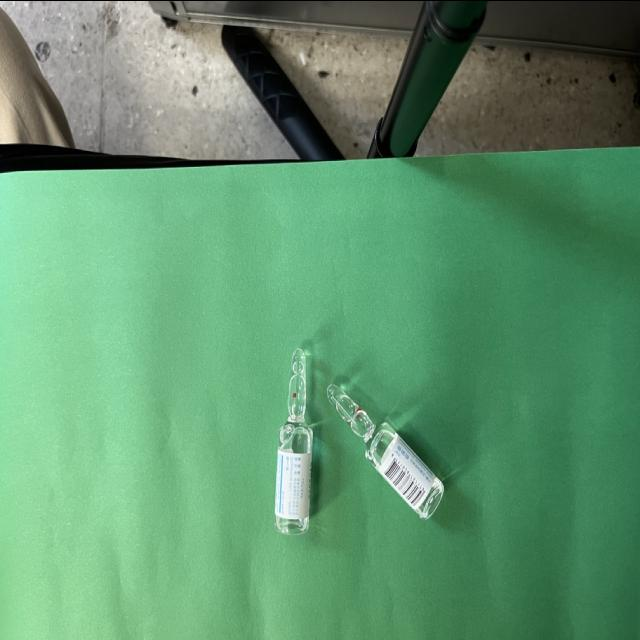Ampoules: (327, 383, 444, 518), (275, 347, 313, 533)
